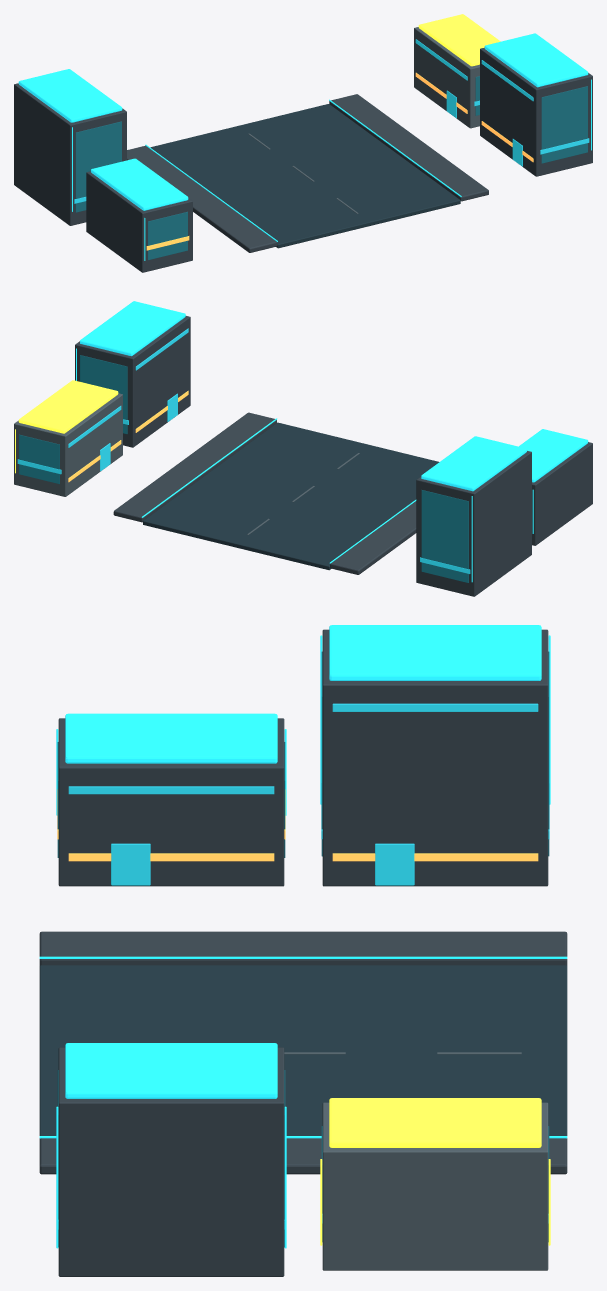
Rendered from street_straight_lod2.glb.
3 views of the same model, one above another, from view 1: azimuth 30°, elevation 25°; view 2: azimuth 150°, elevation 25°; view 3: azimuth 270°, elevation 25° (orthographic). The views are drawn at different scales.
Visible parts, largest first — view 1: ND_Batch_ND_WetAsphalt, ND_Batch_ND_CityConcrete, ND_Batch_ND_CityCyanMuted, ND_Batch_ND_RoadEdge, ND_Batch_ND_DarkGlass, ND_Batch_ND_CityConcreteLight, ND_Batch_ND_PackageGold, ND_Batch_ND_NeonGlass, ND_Batch_ND_WarmWindow; view 2: ND_Batch_ND_WetAsphalt, ND_Batch_ND_CityConcrete, ND_Batch_ND_CityCyanMuted, ND_Batch_ND_DarkGlass, ND_Batch_ND_RoadEdge, ND_Batch_ND_CityConcreteLight, ND_Batch_ND_PackageGold, ND_Batch_ND_NeonGlass, ND_Batch_ND_WarmWindow; view 3: ND_Batch_ND_CityConcrete, ND_Batch_ND_WetAsphalt, ND_Batch_ND_CityCyanMuted, ND_Batch_ND_CityConcreteLight, ND_Batch_ND_RoadEdge, ND_Batch_ND_PackageGold, ND_Batch_ND_NeonGlass, ND_Batch_ND_WarmWindow, ND_Batch_ND_DarkGlass.
Part boxes in pixels (x1,y1,x2,y2): ND_Batch_ND_WetAsphalt: [150, 104, 460, 248]; ND_Batch_ND_CityConcrete: [14, 47, 592, 272]; ND_Batch_ND_CityCyanMuted: [18, 33, 591, 260]; ND_Batch_ND_RoadEdge: [127, 94, 488, 252]; ND_Batch_ND_DarkGlass: [75, 76, 587, 260]; ND_Batch_ND_CityConcreteLight: [248, 27, 479, 213]; ND_Batch_ND_PackageGold: [418, 14, 500, 66]; ND_Batch_ND_NeonGlass: [74, 39, 589, 203]; ND_Batch_ND_WarmWindow: [146, 72, 533, 250]; ND_Batch_ND_WetAsphalt: [143, 422, 439, 570]; ND_Batch_ND_CityConcrete: [75, 316, 592, 596]; ND_Batch_ND_CityCyanMuted: [76, 301, 588, 582]; ND_Batch_ND_DarkGlass: [19, 355, 468, 582]; ND_Batch_ND_RoadEdge: [113, 412, 416, 574]; ND_Batch_ND_CityConcreteLight: [14, 393, 359, 534]; ND_Batch_ND_PackageGold: [15, 380, 118, 473]; ND_Batch_ND_NeonGlass: [17, 328, 470, 573]; ND_Batch_ND_WarmWindow: [68, 390, 188, 482]; ND_Batch_ND_CityConcrete: [58, 629, 548, 1276]; ND_Batch_ND_WetAsphalt: [39, 965, 567, 1139]; ND_Batch_ND_CityCyanMuted: [39, 625, 567, 1248]; ND_Batch_ND_CityConcreteLight: [284, 1052, 548, 1270]; ND_Batch_ND_RoadEdge: [39, 931, 567, 1174]; ND_Batch_ND_PackageGold: [320, 1098, 550, 1245]; ND_Batch_ND_NeonGlass: [58, 703, 549, 1229]; ND_Batch_ND_WarmWindow: [57, 789, 538, 861]; ND_Batch_ND_DarkGlass: [57, 651, 549, 1246].
Bounding box in the file's own units: 40 × 9.1 × 20.
